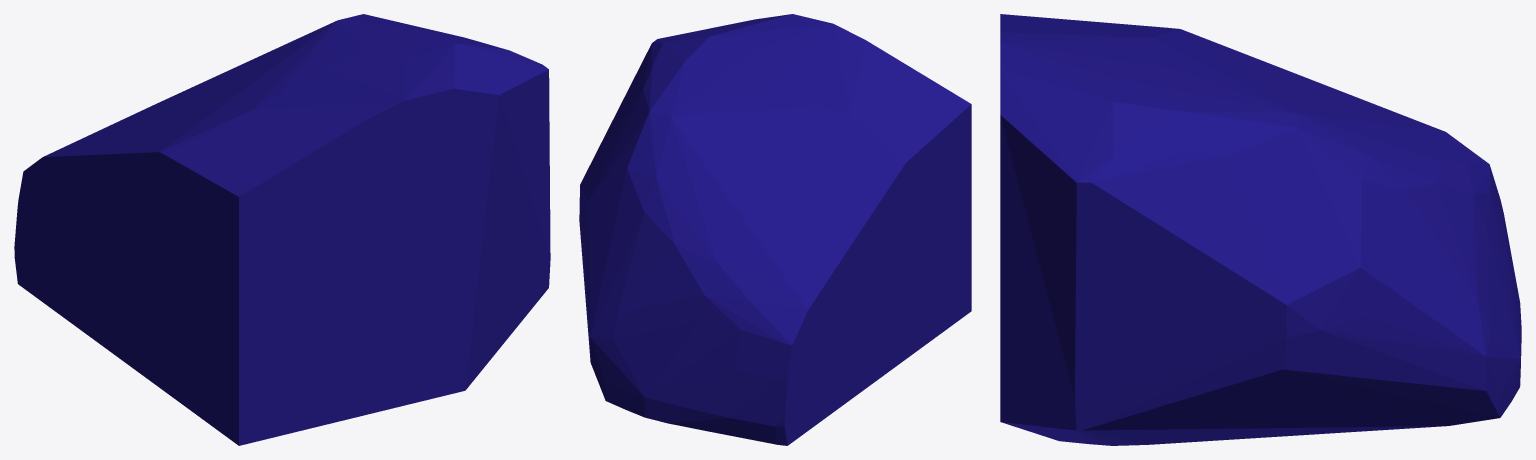
The picture shows the model from 3 angles, left to right: view 1: azimuth 30°, elevation 25°; view 2: azimuth 150°, elevation 25°; view 3: azimuth 270°, elevation 25°; orthographic projection. The views are drawn at different scales.
Bounding box in the file's own units: 0.0202 × 0.0171 × 0.0233.
